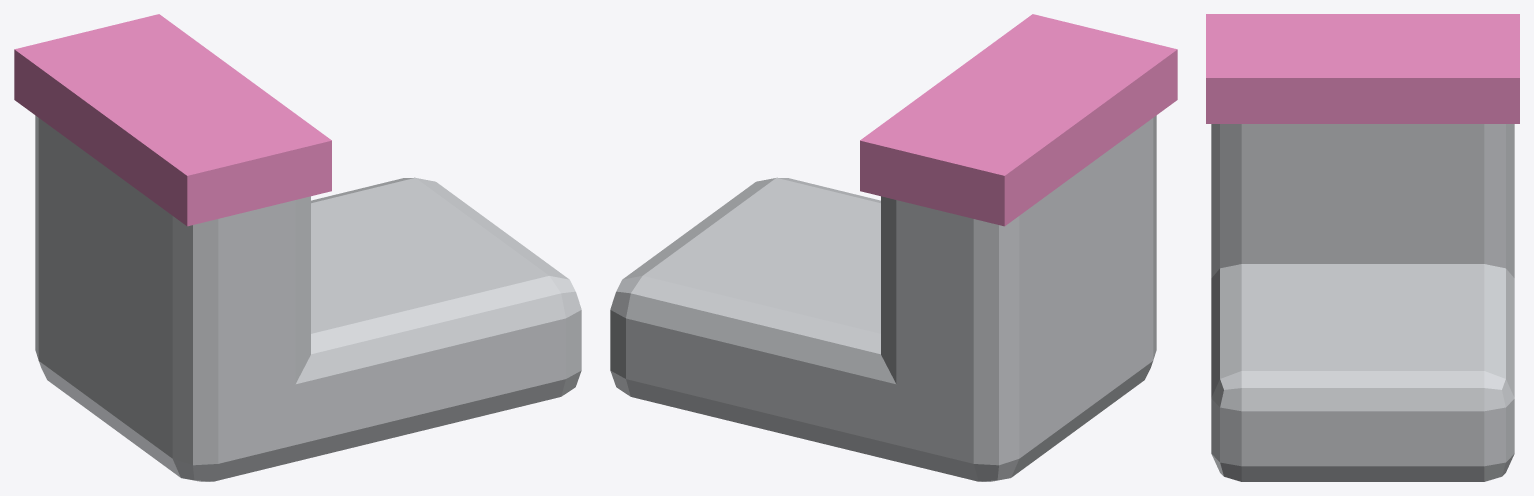
File: Pieza1.fbx
The picture shows the model from 3 angles, left to right: view 1: azimuth 30°, elevation 25°; view 2: azimuth 150°, elevation 25°; view 3: azimuth 270°, elevation 25°; orthographic projection. The views are drawn at different scales.
Parts seen in each view (by area): view 1: Cuerpo, Color; view 2: Cuerpo, Color; view 3: Cuerpo, Color.
Boxes of the visible parts, x1,y1,x2,y2 form: Cuerpo: (35, 115, 581, 481); Color: (14, 14, 331, 226); Cuerpo: (610, 115, 1156, 481); Color: (860, 14, 1177, 226); Cuerpo: (1211, 124, 1514, 481); Color: (1206, 14, 1519, 123).
Bounding box in the file's own units: 0.425 × 0.325 × 0.31.
